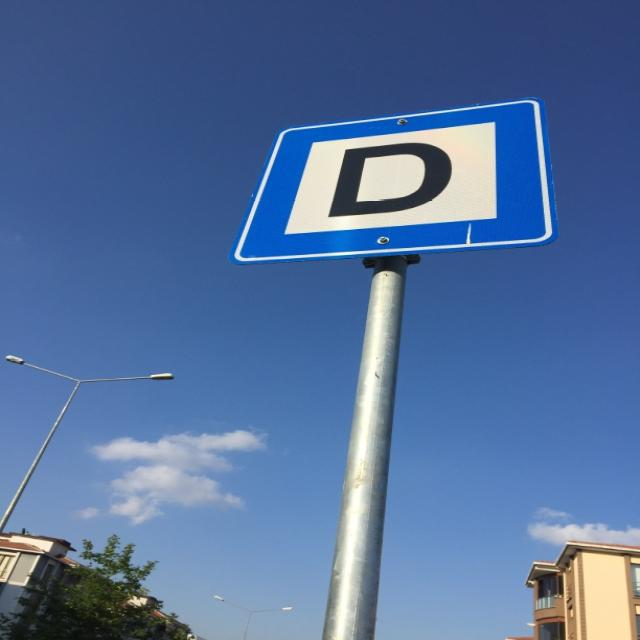durak: (227, 96, 557, 264)
